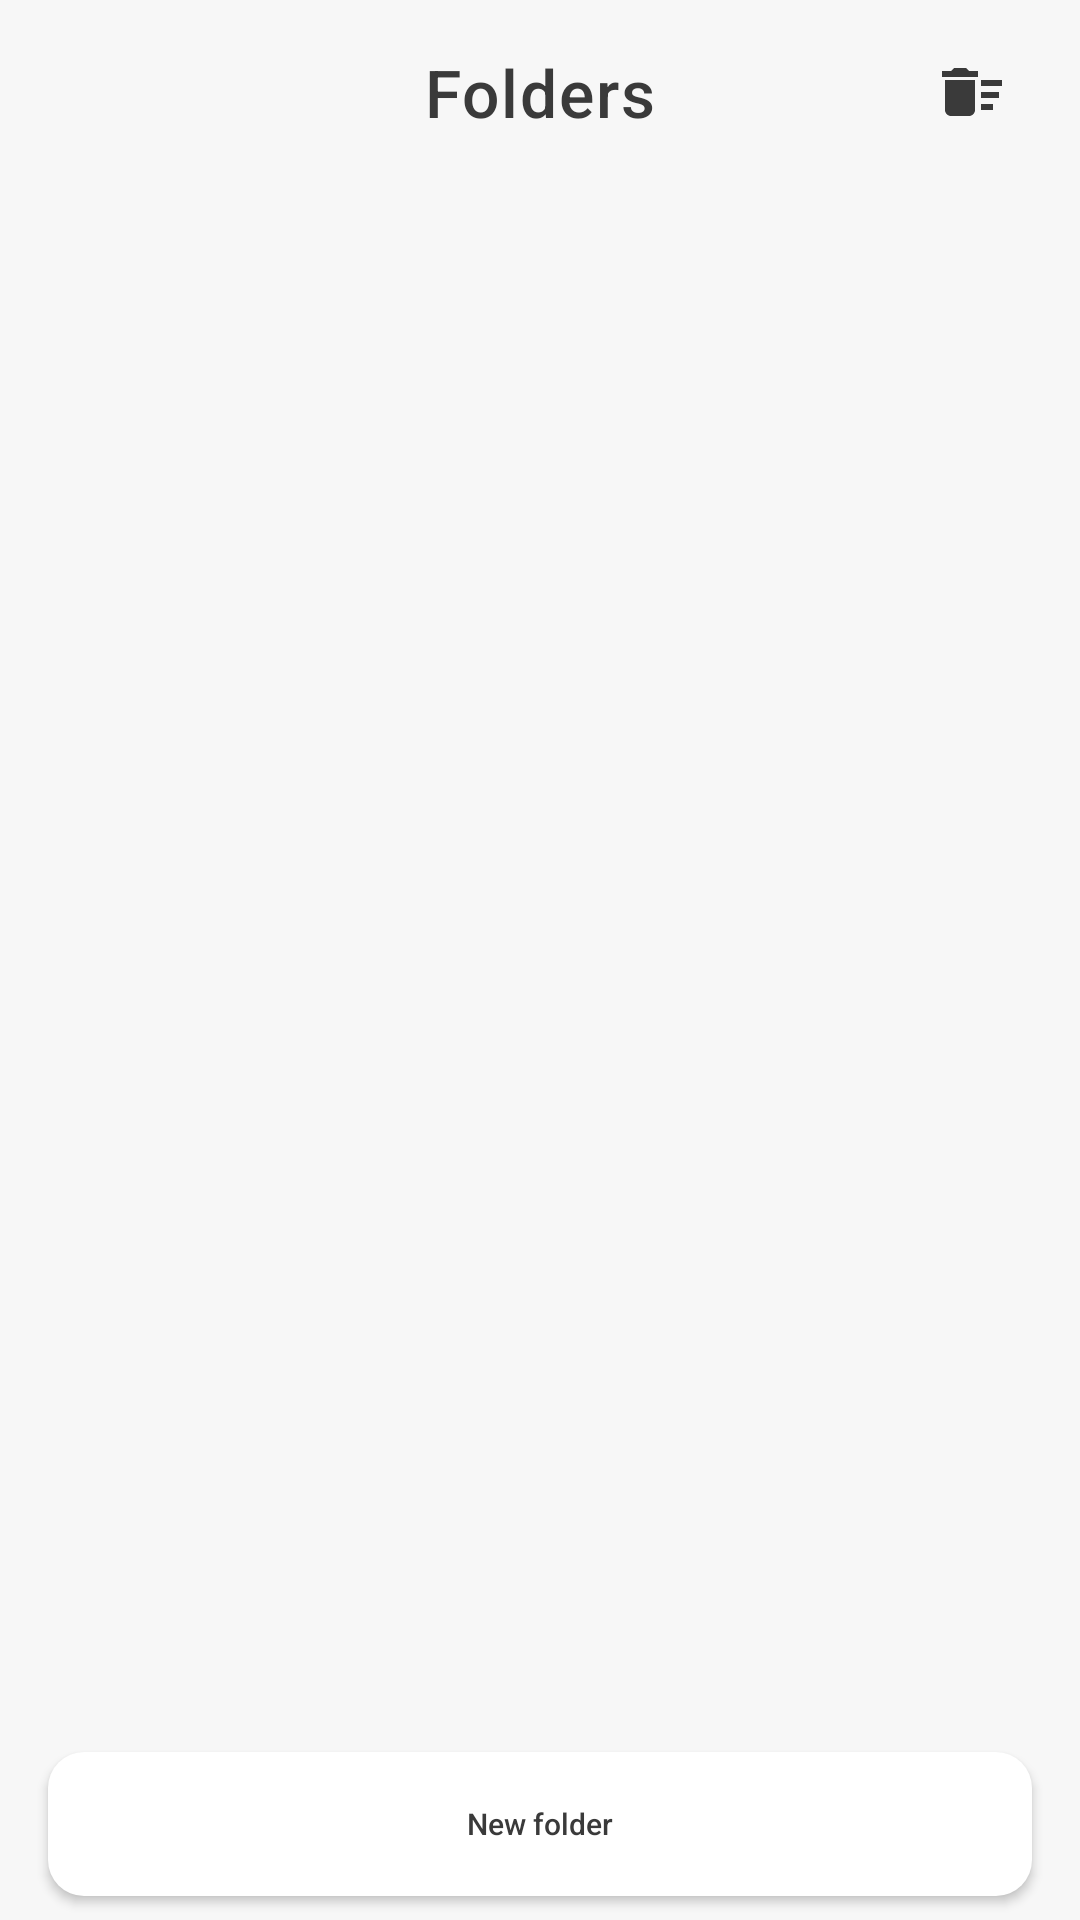

Where to tap for icons on this 1080 x 1920 app screen, as (x,y):
delete sweep: (972,92)
